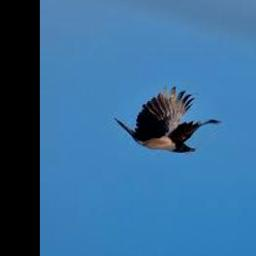Crow: (114, 87, 222, 154)
